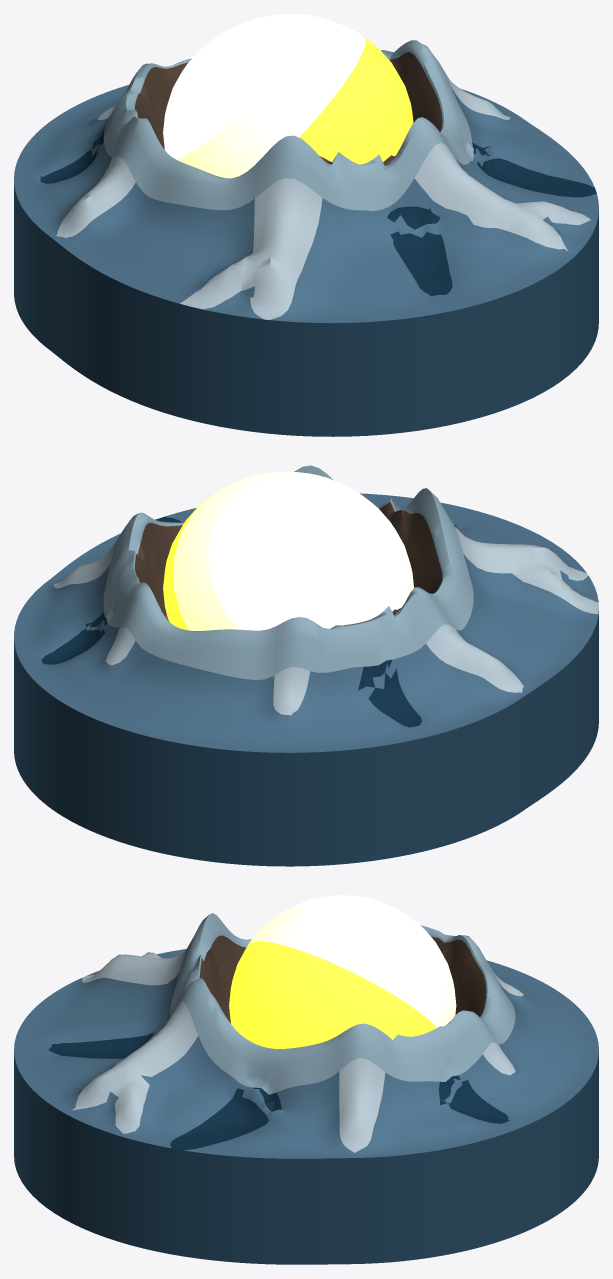
Rendered from ice_vent_131.glb.
3 renders of one model, top to bottom at view 1: azimuth 30°, elevation 25°; view 2: azimuth 150°, elevation 25°; view 3: azimuth 270°, elevation 25°, orthographic. The views are drawn at different scales.
Parts seen in each view (by area): view 1: ice, orb; view 2: ice, orb; view 3: ice, orb.
Boxes of the visible parts, x1,y1,x2,y2 form: ice: [14, 40, 598, 436]; orb: [163, 14, 413, 178]; ice: [14, 465, 598, 866]; orb: [163, 471, 413, 630]; ice: [14, 913, 598, 1264]; orb: [229, 895, 456, 1048].
Bounding box in the file's own units: 18.49 × 9.86 × 21.
